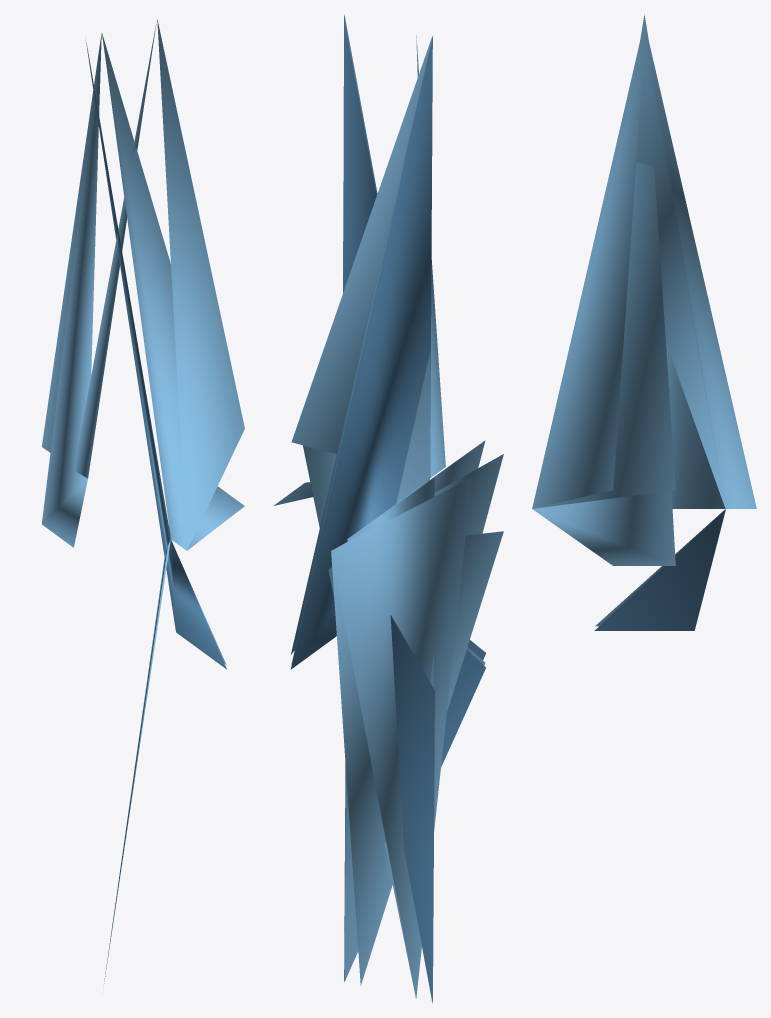
File: equip_body_rune_platebody.glb
3 renders of one model, left to right at view 1: azimuth 30°, elevation 25°; view 2: azimuth 150°, elevation 25°; view 3: azimuth 270°, elevation 25°, orthographic. The views are drawn at different scales.
Visible parts, largest first — view 1: equip_body_rune_platebody; view 2: equip_body_rune_platebody; view 3: equip_body_rune_platebody.
Part boxes in pixels (box(x1,y1,x2,y2)): equip_body_rune_platebody: box(42, 19, 244, 985); equip_body_rune_platebody: box(273, 14, 503, 1003); equip_body_rune_platebody: box(532, 14, 756, 630).
Size of the model in its own units: 0.43 by 2 by 0.43.
